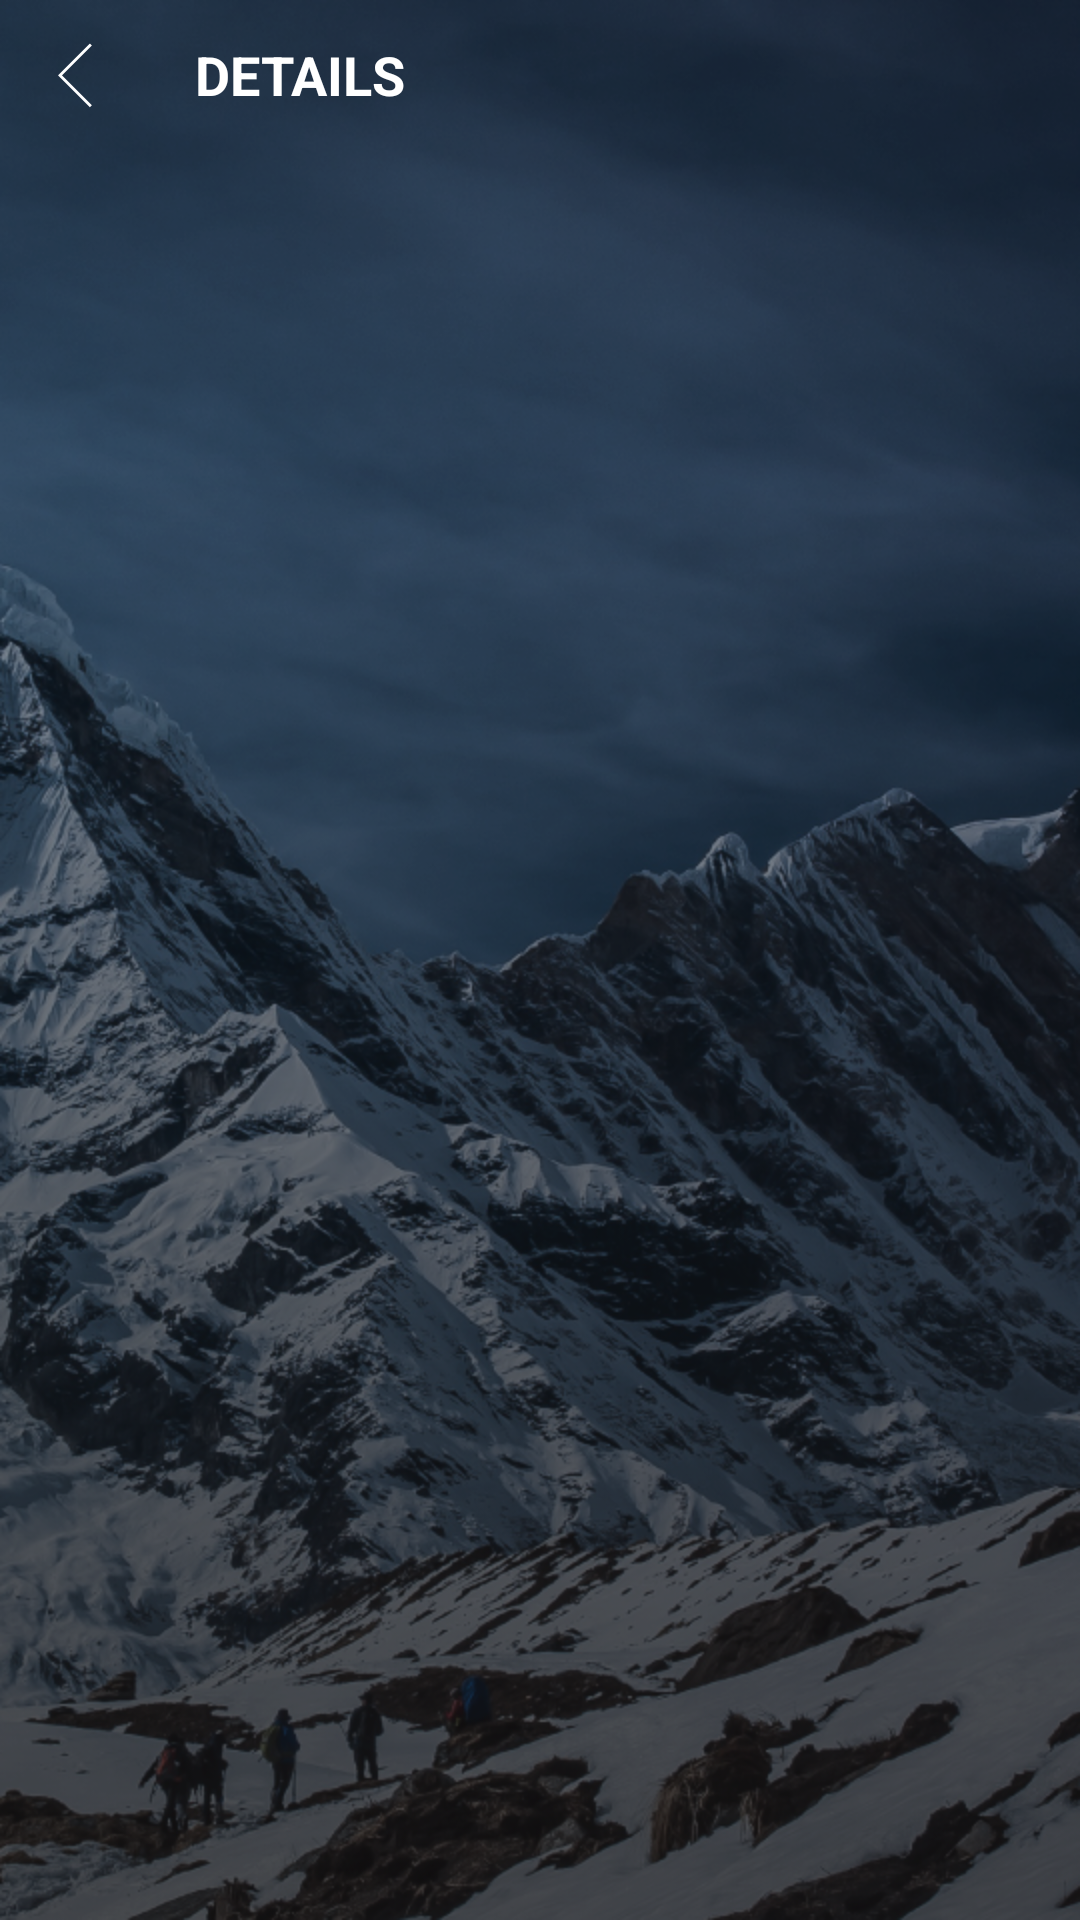

Where to tap for icons on this 1080*1920 app screen, as point (x, y):
back button: point (75, 75)
